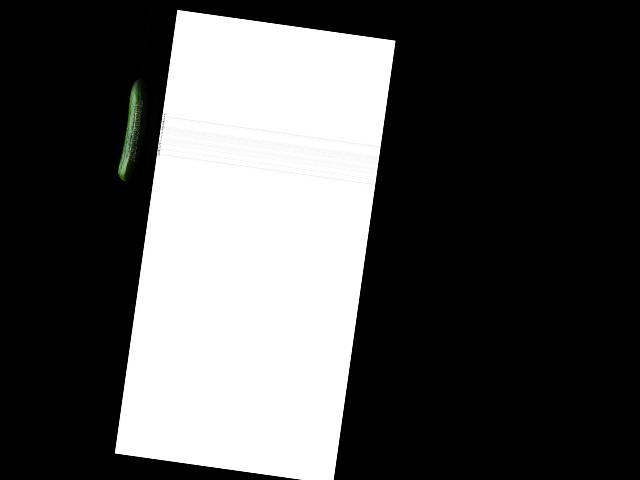cucumber: (117, 78, 147, 182)
